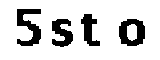5: (12, 6, 43, 50)
o: (117, 15, 149, 51)
s: (50, 16, 75, 50)
t: (79, 10, 104, 50)
